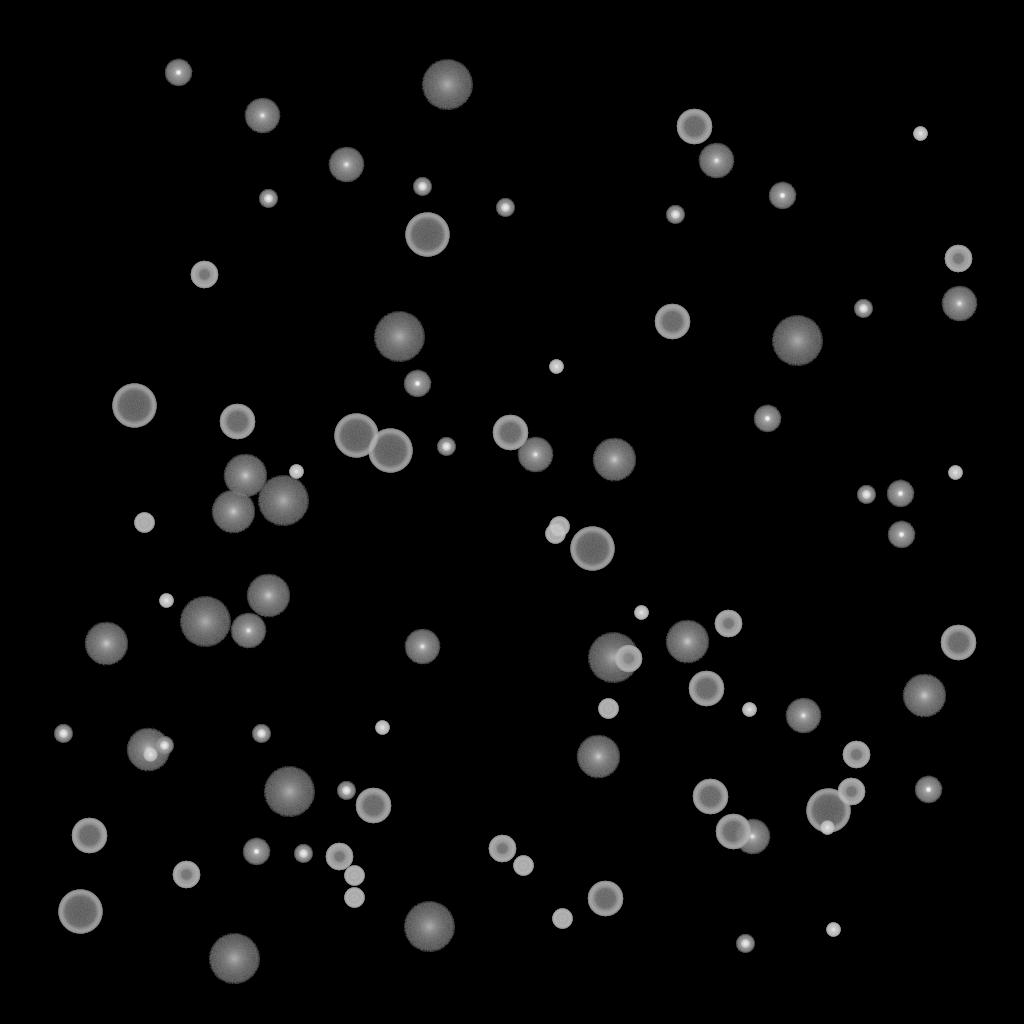depth:-10: (886, 480, 914, 508), (753, 405, 781, 433), (164, 59, 192, 87), (403, 370, 431, 398), (914, 776, 942, 804), (768, 182, 796, 210), (887, 521, 915, 549), (242, 838, 270, 866)
depth:-20: (259, 190, 277, 208), (857, 486, 875, 504), (496, 199, 514, 217), (437, 438, 455, 456), (155, 737, 173, 755), (413, 178, 431, 196), (294, 845, 312, 863), (337, 782, 355, 800), (252, 725, 270, 743), (736, 935, 754, 953), (666, 206, 684, 224), (54, 725, 72, 743), (854, 300, 872, 318)
depth:-30: (289, 465, 303, 479), (820, 821, 834, 835), (375, 721, 389, 735), (549, 360, 563, 374), (948, 466, 962, 480), (742, 703, 756, 717), (159, 594, 173, 608), (634, 606, 648, 620), (143, 748, 157, 762), (913, 127, 927, 141), (826, 923, 840, 937)
depth:-40: (552, 909, 572, 929), (513, 856, 533, 876), (545, 524, 565, 544), (549, 517, 569, 537), (134, 513, 154, 533), (598, 699, 618, 719), (344, 888, 364, 908), (344, 866, 364, 886)
depth:-50: (842, 741, 870, 769), (714, 610, 742, 638), (190, 261, 218, 289), (837, 778, 865, 806), (172, 861, 200, 889), (944, 245, 972, 273), (488, 835, 516, 863), (325, 843, 353, 871), (614, 645, 642, 673)
depth:-60: (715, 814, 751, 850), (492, 415, 528, 451), (940, 625, 976, 661), (676, 109, 712, 145), (692, 779, 728, 815), (71, 818, 107, 854), (219, 404, 255, 440), (688, 671, 724, 707), (587, 881, 623, 917), (355, 788, 391, 824), (654, 304, 690, 340)
depth:-70: (334, 414, 378, 458), (58, 890, 102, 934), (806, 789, 850, 833), (570, 527, 614, 571), (368, 429, 412, 473), (112, 384, 156, 428), (405, 213, 449, 257)
depth:0: (244, 98, 280, 134), (698, 143, 734, 179), (734, 819, 770, 855), (230, 613, 266, 649), (941, 286, 977, 322), (785, 698, 821, 734), (404, 629, 440, 665), (517, 437, 553, 473), (328, 147, 364, 183)
depth:10: (211, 490, 255, 534), (592, 438, 636, 482), (246, 574, 290, 618), (576, 735, 620, 779), (126, 728, 170, 772), (665, 620, 709, 664), (902, 674, 946, 718), (84, 622, 128, 666), (223, 454, 267, 498)
depth:20: (179, 597, 231, 647), (373, 312, 425, 362), (263, 767, 315, 817), (587, 633, 639, 683), (771, 316, 823, 366), (208, 934, 260, 984), (403, 902, 455, 952), (421, 60, 473, 110), (257, 476, 309, 526)
